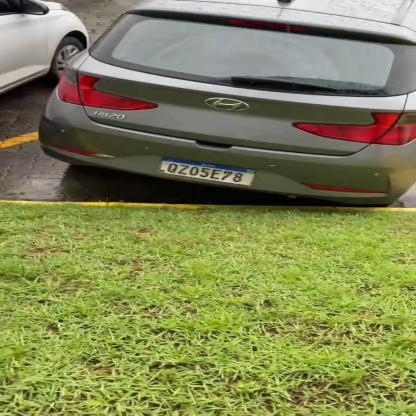Plate: (160, 150, 258, 192)
